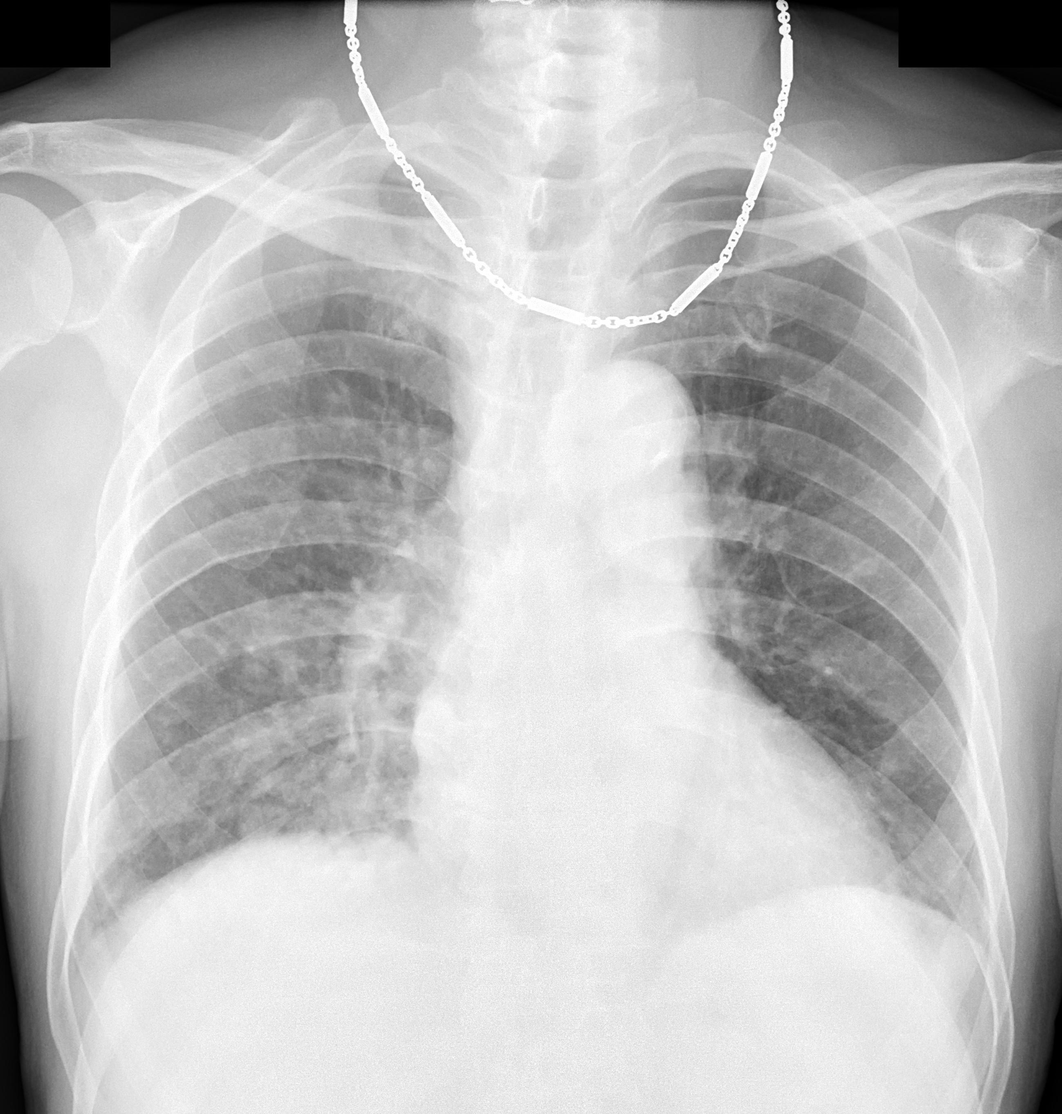Aortic enlargement: (555, 361, 706, 558)
Cardiomegaly: (410, 690, 899, 947)
